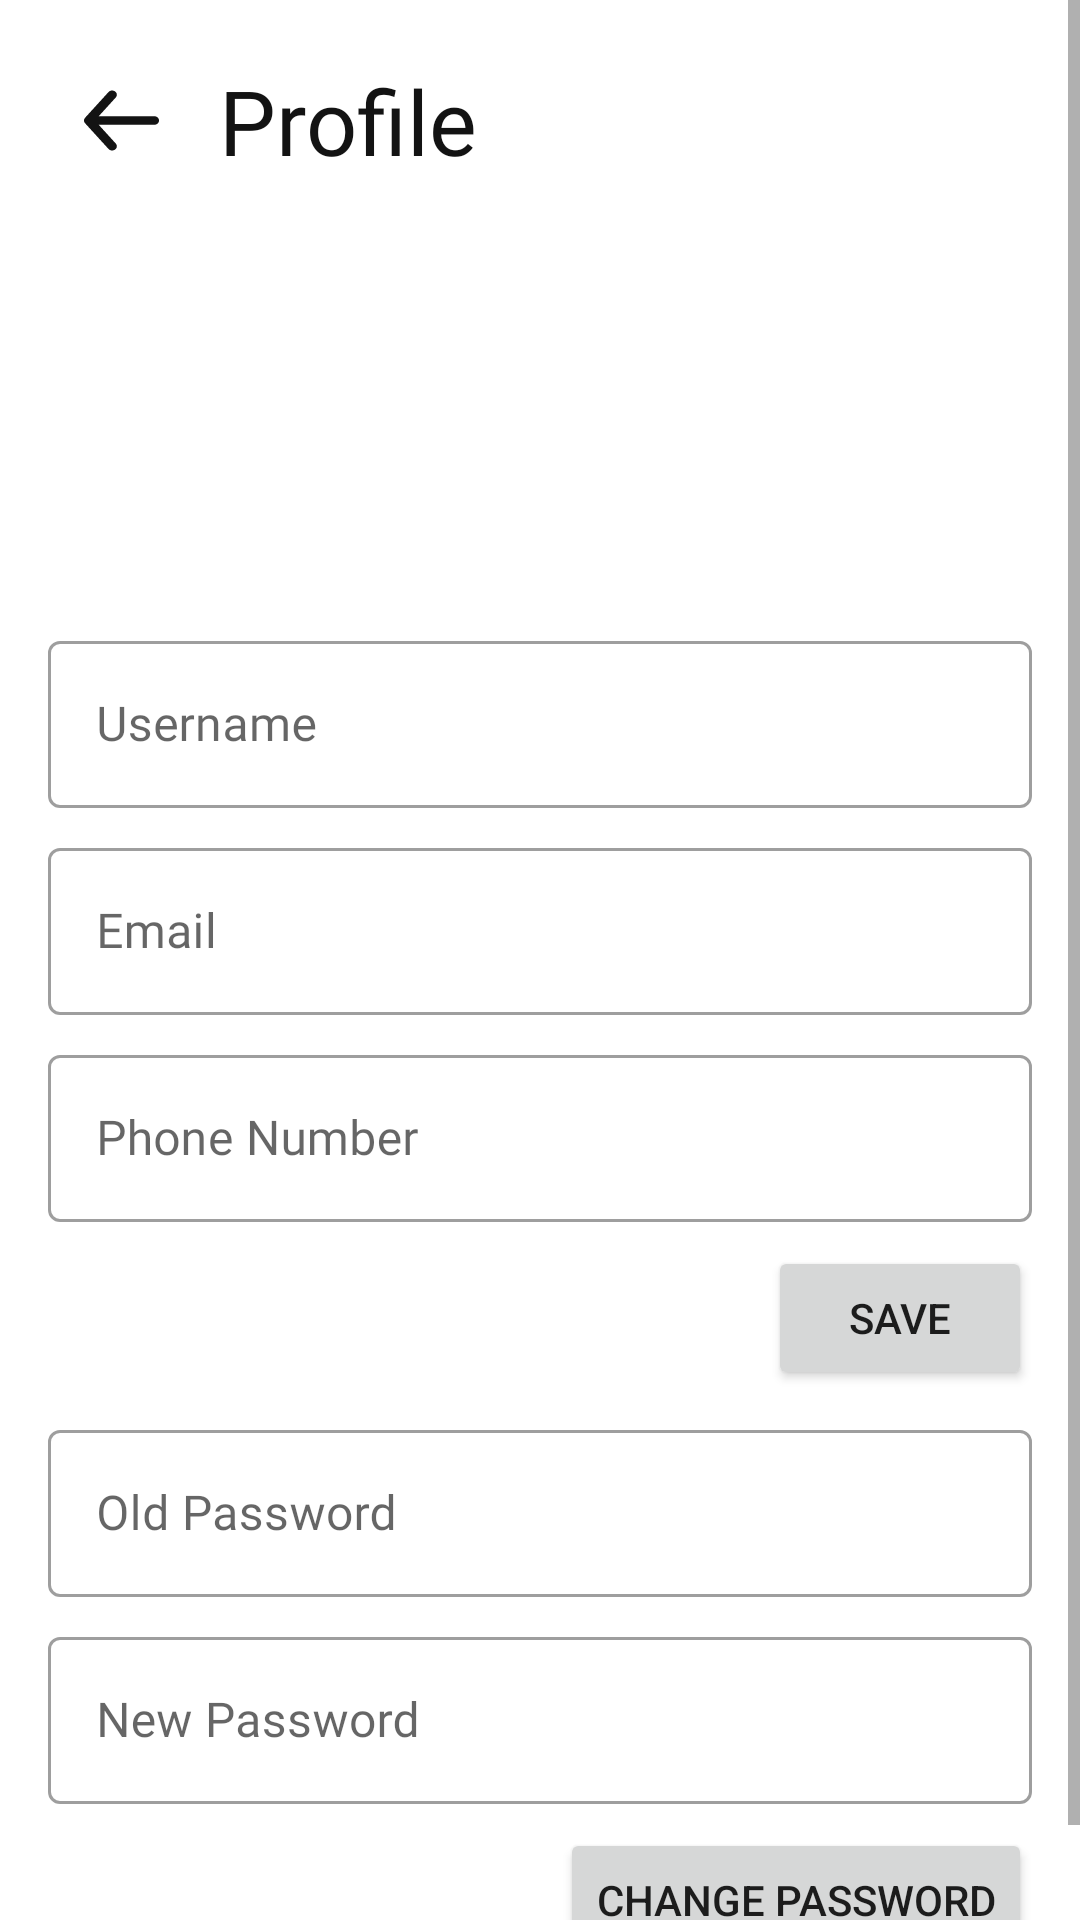

Icon bounding boxes for this 1080 × 1920 phone screenshot, format (x1, y1, x2, y2):
arrow back: (84, 90, 159, 151)
